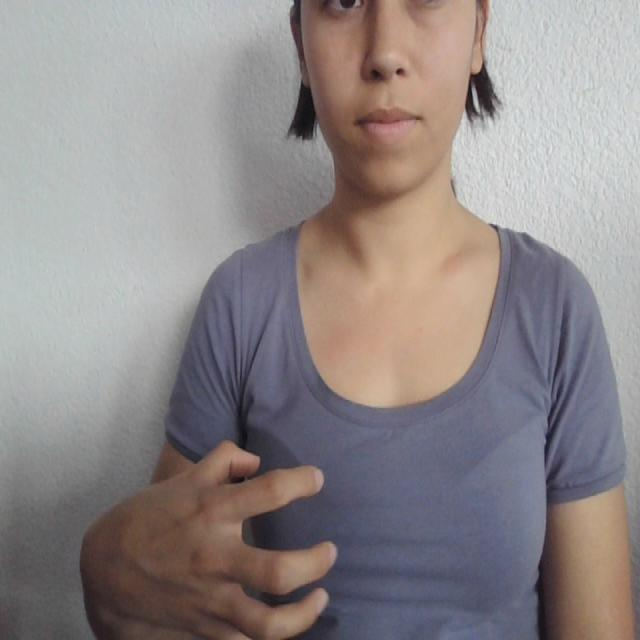Anne: (88, 439, 347, 640)
